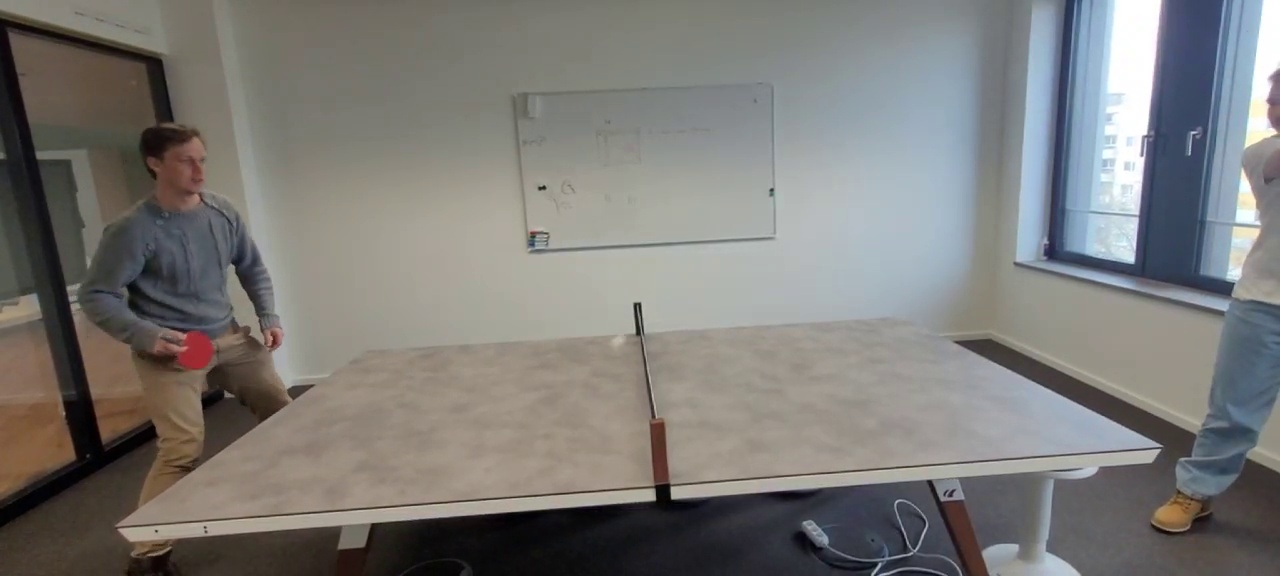1: (158, 329, 212, 368)
2: (610, 334, 626, 347)
ttplatte: (116, 316, 1161, 526)
